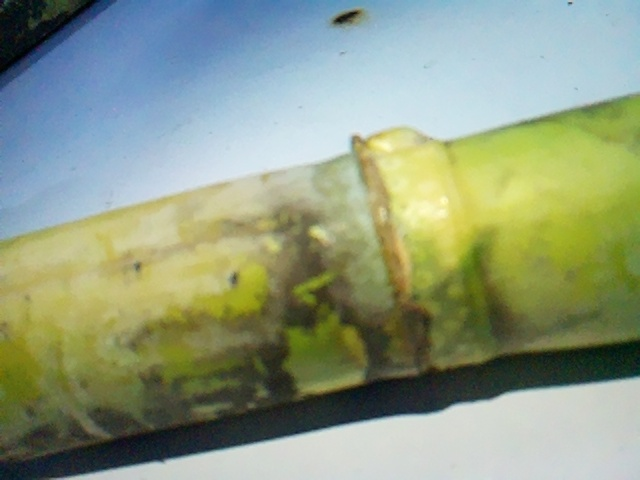Good Sugarcane: (0, 93, 635, 465)
Node: (300, 116, 512, 381)
